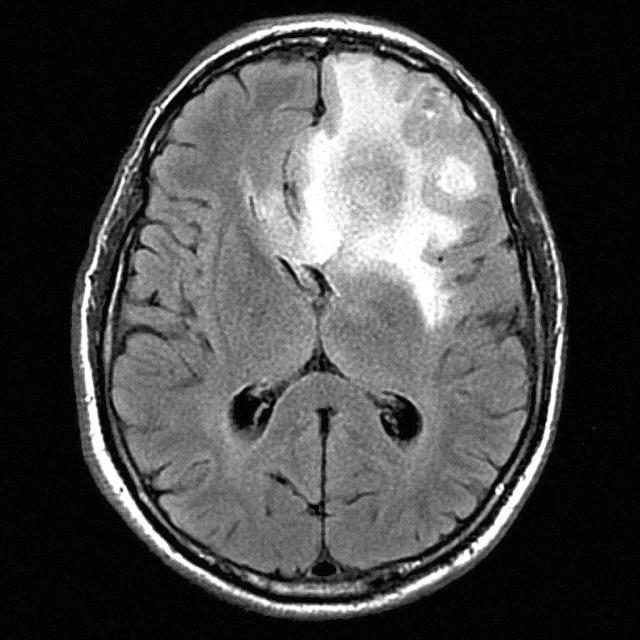brain tumor: (299, 52, 531, 331)
